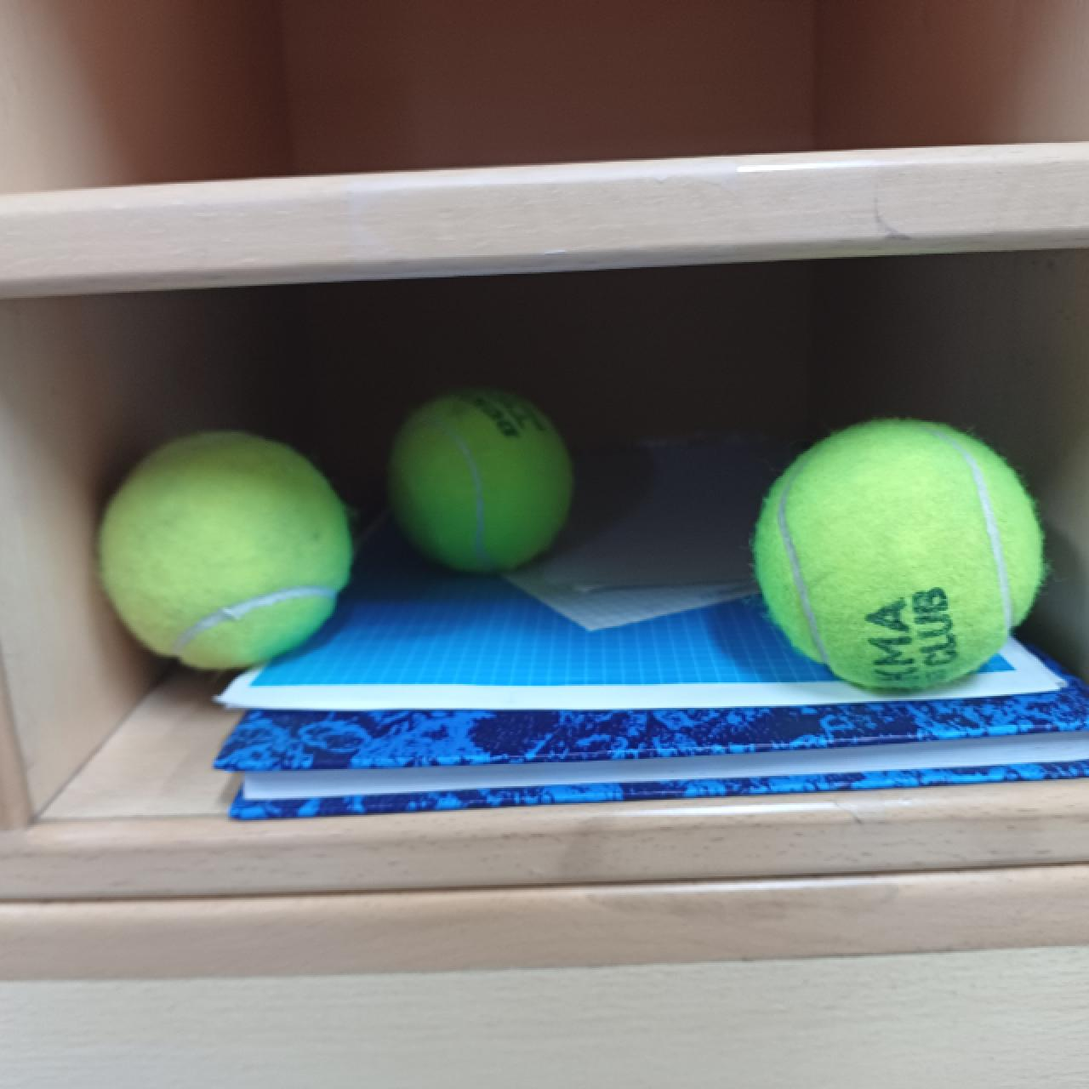tennis-ball: (745, 408, 1049, 696), (93, 432, 361, 673), (379, 382, 582, 582)
